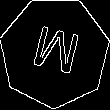M_S: (27, 22, 83, 82)
